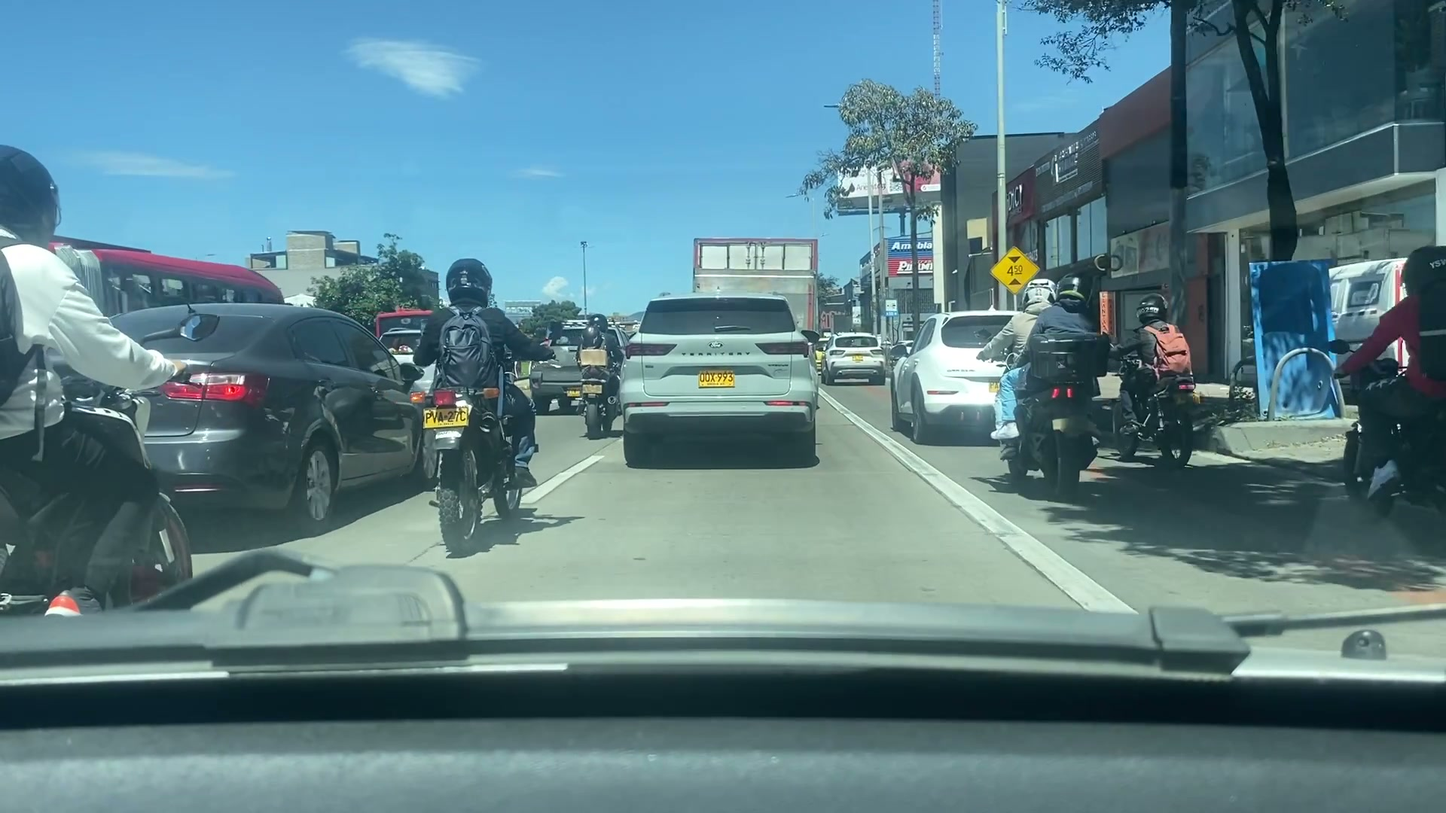car: (65, 296, 446, 520), (625, 293, 822, 469), (884, 310, 1037, 442), (527, 314, 626, 406), (822, 331, 888, 386)
motorcycle: (1315, 342, 1446, 537), (409, 380, 542, 551), (994, 362, 1095, 504), (1106, 366, 1196, 472), (576, 347, 623, 437)
person: (0, 141, 187, 604), (413, 253, 551, 500), (1344, 241, 1446, 486), (981, 274, 1057, 441), (1120, 285, 1192, 441), (1033, 272, 1105, 417), (580, 311, 627, 413)
